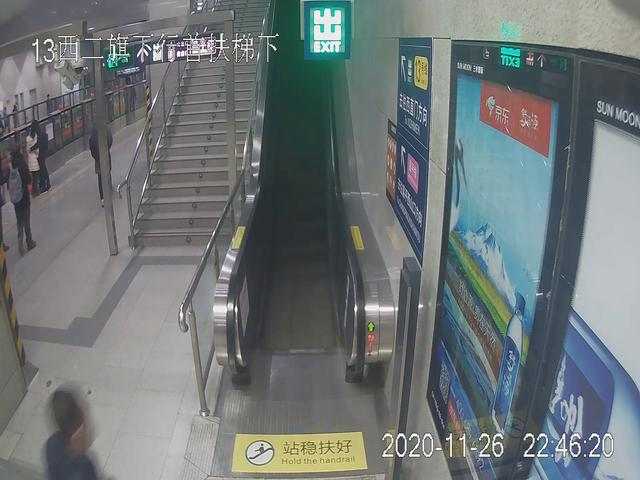person: (6, 140, 34, 257), (84, 110, 113, 206), (37, 107, 50, 198), (27, 117, 38, 195)
